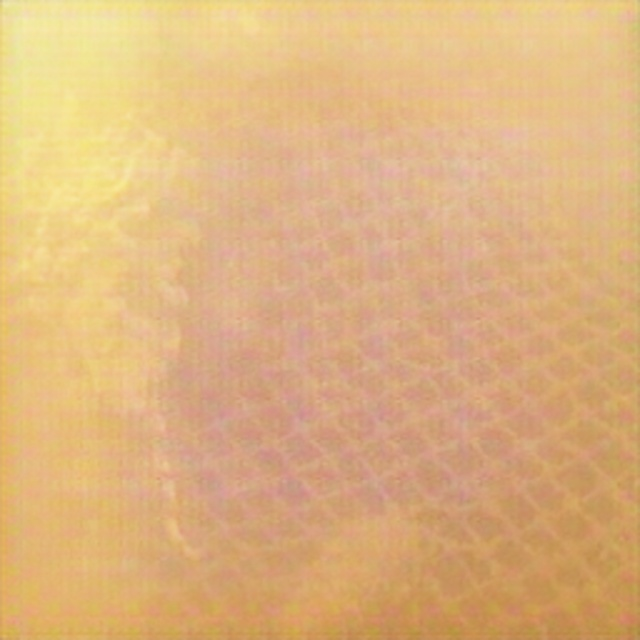mine: (167, 94, 639, 639)
